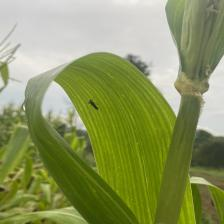unkown: (75, 96, 115, 121)
